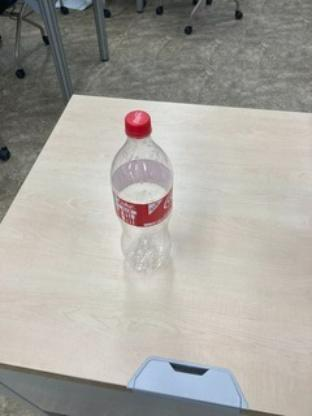Plastic Bottle: (108, 106, 176, 278)
